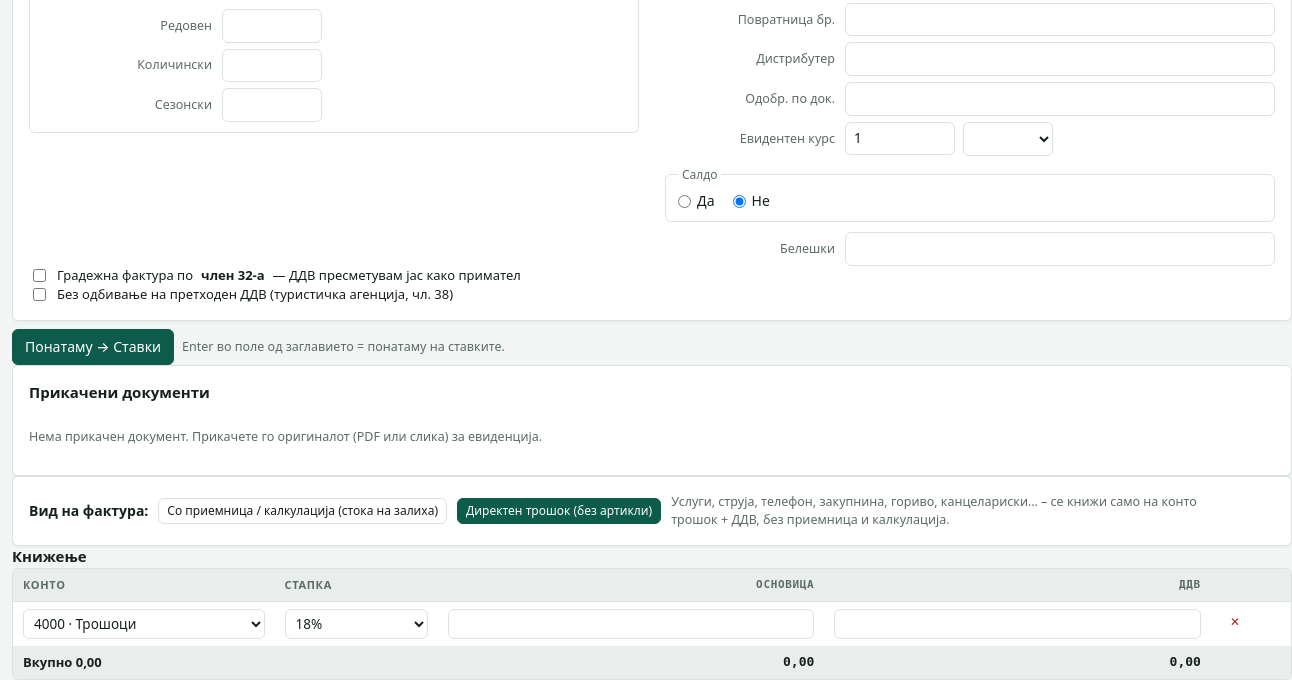
Test: incoming invoice: header → lines › a missing supplier blocks „Понатаму“
(page scrolled)
Step 1. Click the button with test id "header-next" → (93,347), box [12, 329, 174, 365]
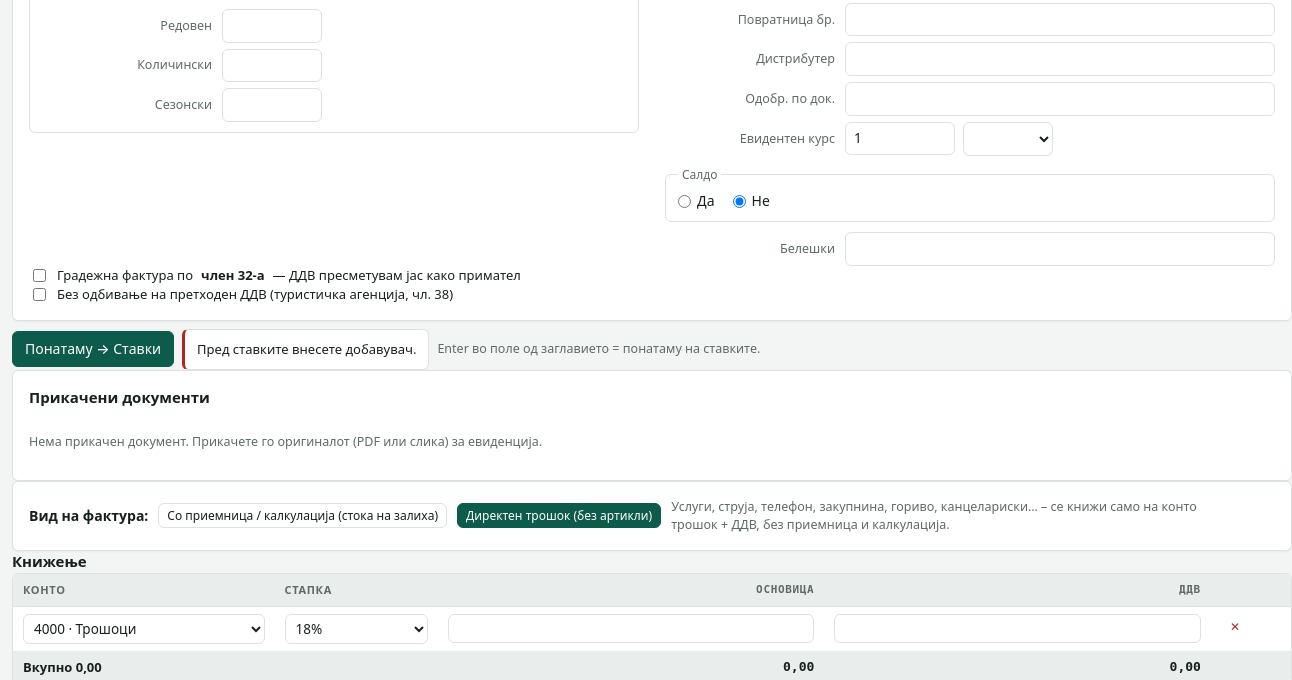
Check: the message with test id "header-err" shows "добавувач", box [197, 340, 416, 358]
